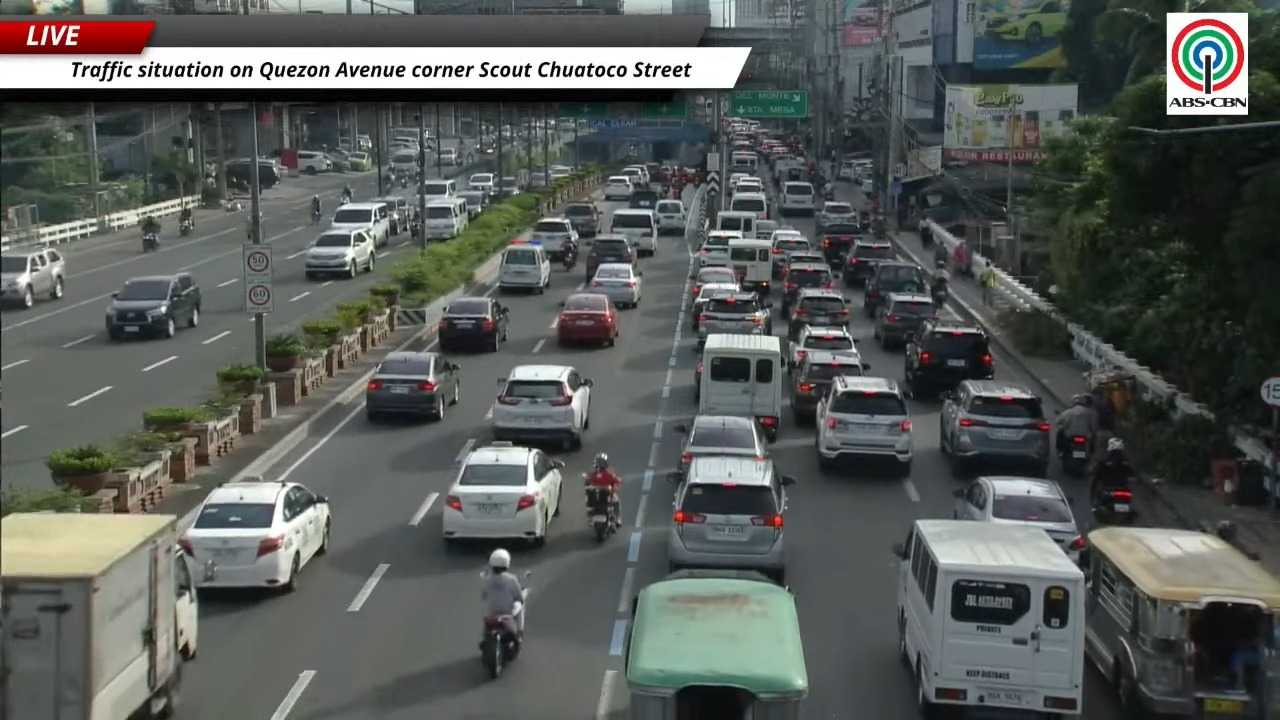car: (179, 476, 330, 591), (669, 456, 794, 583), (442, 441, 564, 545), (953, 476, 1085, 563), (940, 380, 1051, 476), (815, 375, 913, 474), (489, 365, 592, 449), (904, 318, 994, 397), (364, 351, 459, 420), (105, 273, 201, 340), (791, 349, 869, 423), (676, 415, 768, 472), (696, 291, 771, 350), (437, 297, 508, 352), (0, 248, 65, 308), (984, 0, 1067, 45), (864, 261, 928, 317), (304, 228, 375, 278), (873, 293, 935, 349), (556, 292, 619, 346), (787, 289, 851, 340), (788, 326, 857, 368), (782, 264, 834, 314), (331, 202, 389, 246), (690, 281, 741, 331), (843, 238, 894, 286), (587, 263, 642, 307), (584, 235, 635, 281), (530, 217, 578, 261), (817, 222, 862, 267), (770, 229, 811, 278), (691, 266, 739, 299), (698, 231, 742, 266), (374, 196, 412, 235), (563, 202, 600, 237), (815, 201, 857, 230), (654, 199, 686, 234), (781, 251, 824, 276), (457, 189, 489, 220), (767, 227, 810, 248), (296, 150, 332, 173), (603, 175, 633, 200), (628, 188, 660, 211), (620, 165, 650, 189), (468, 172, 497, 194), (732, 176, 764, 194), (326, 150, 349, 172), (347, 151, 372, 171), (499, 176, 522, 197), (727, 172, 751, 192), (757, 219, 781, 237), (438, 148, 461, 166), (837, 160, 855, 180), (860, 177, 873, 194)
motorcycle: (479, 587, 528, 678), (585, 485, 616, 541), (1093, 488, 1137, 525), (1059, 435, 1089, 476), (561, 244, 578, 270), (931, 285, 948, 309), (142, 232, 159, 252), (179, 218, 193, 236), (409, 220, 421, 240), (311, 209, 320, 224), (398, 175, 409, 187), (339, 194, 351, 205)
truck: (0, 512, 197, 719)
